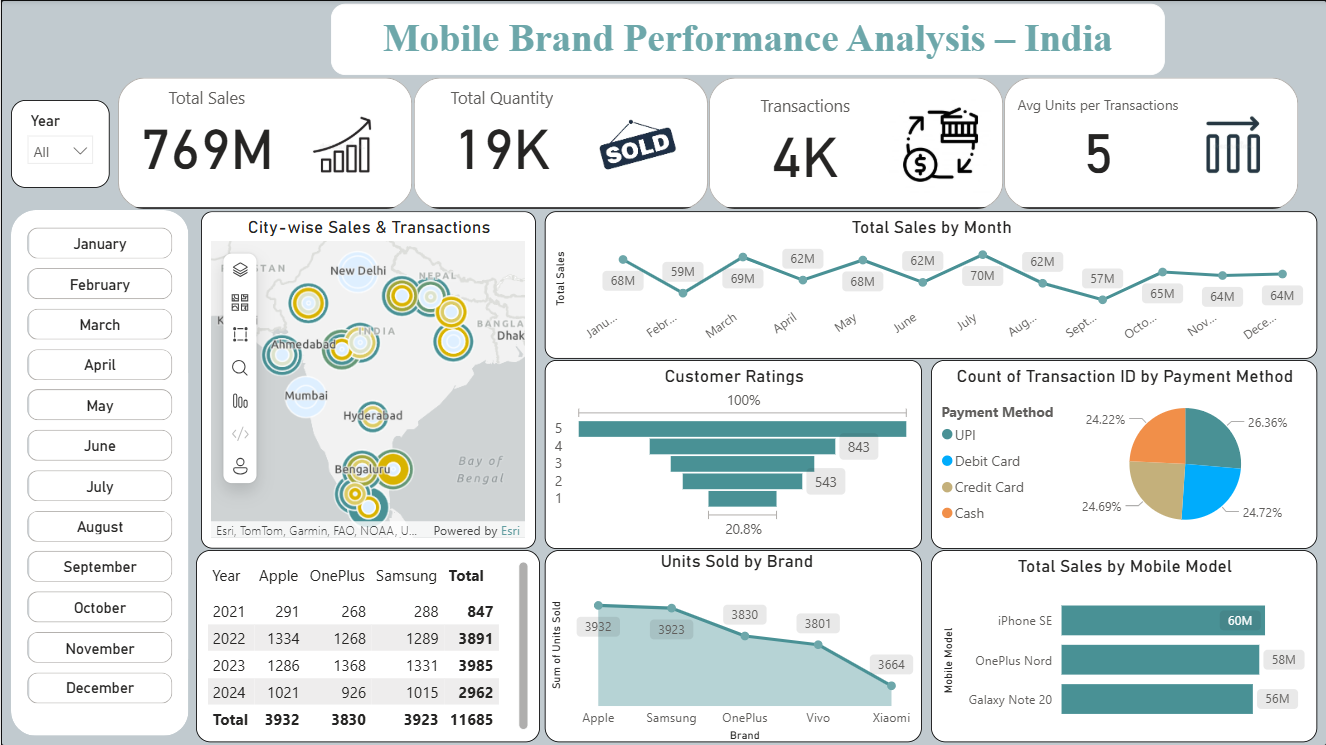

The dashboard page shown, as its layout file describes it:
{"tool":"powerbi","page":{"name":"Page 1","canvas":[1280,720],"ordinal":0},"visuals":[{"type":"shape","box":[10,202.5,171.2,507.5],"z":0},{"type":"advancedSlicerVisual","fields":{"Values":["Mobile Sale.Date.Variation.Date Hierarchy.Month"]},"box":[20,215,150,470],"z":2000},{"type":"cardVisual","title":"Total Tran","fields":{"Data":["Mobile Sale.Total Sales","Mobile Sale.Total Quantity","Mobile Sale.Total Transaction","Mobile Sale.Average"]},"box":[88.7,69.5,1191.3,137.6],"z":3000},{"type":"esriVisual","title":"City-wise Sales & Transactions","fields":{"Location":["Mobile Sale.City"],"Size":["Mobile Sale.Total Sales"],"Color":["Mobile Sale.Units Sold"]},"box":[193,203.9,323.3,325.7],"z":4000},{"type":"lineChart","fields":{"Category":["Mobile Sale.Date.Variation.Date Hierarchy.Month","Mobile Sale.Date.Variation.Date Hierarchy.Day"],"Y":["Mobile Sale.Total Sales"]},"box":[524.8,203.9,745.6,142.4],"z":5000},{"type":"clusteredBarChart","fields":{"Y":["Mobile Sale.Total Sales"],"Category":["Mobile Sale.Mobile Model"]},"box":[897.6,530.8,372.8,185.8],"z":6000},{"type":"pieChart","fields":{"Category":["Mobile Sale.Payment Method"],"Y":["CountNonNull(Mobile Sale.Transaction ID)"]},"box":[897.6,347.5,372.8,182.2],"z":7000},{"type":"funnel","title":"Customer Ratings","fields":{"Y":["CountNonNull(Mobile Sale.Customer Ratings)"],"Category":["Mobile Sale.Customer Ratings"]},"box":[524.8,347.5,364.3,182.2],"z":8000},{"type":"areaChart","title":"Units Sold by Brand","fields":{"Category":["Mobile Sale.Brand"],"Y":["Sum(Mobile Sale.Units Sold)"]},"box":[524.8,530.8,364.3,185.8],"z":9000},{"type":"pivotTable","fields":{"Rows":["Mobile Sale.Date.Variation.Date Hierarchy.Year"],"Columns":["Mobile Sale.Brand"],"Values":["Sum(Mobile Sale.Units Sold)"]},"box":[188.2,530.8,331.8,185.8],"z":10000},{"type":"slicer","fields":{"Values":["Mobile Sale.Date.Variation.Date Hierarchy.Year"]},"box":[10,96.2,95,85],"z":11000},{"type":"textbox","box":[318.5,3.6,804.7,68.8],"z":12000}]}

Visuals, with their boxes in screenshot pixels (x1, y1, x2, y2), scaled from the page's 1280x720 canvas onto the 1326x745 screenshot:
shape: crop(10, 210, 188, 735)
advancedSlicerVisual - Mobile Sale.Date.Variation.Date Hierarchy.Month: crop(21, 222, 176, 709)
"Total Tran" cardVisual: crop(92, 72, 1325, 214)
"City-wise Sales & Transactions" esriVisual: crop(200, 211, 535, 548)
lineChart - Mobile Sale.Date.Variation.Date Hierarchy.Month x Mobile Sale.Date.Variation.Date Hierarchy.Day: crop(544, 211, 1316, 358)
clusteredBarChart - Mobile Sale.Total Sales x Mobile Sale.Mobile Model: crop(930, 549, 1316, 741)
pieChart - Mobile Sale.Payment Method x CountNonNull(Mobile Sale.Transaction ID): crop(930, 360, 1316, 548)
"Customer Ratings" funnel: crop(544, 360, 921, 548)
"Units Sold by Brand" areaChart: crop(544, 549, 921, 741)
pivotTable - Mobile Sale.Date.Variation.Date Hierarchy.Year x Mobile Sale.Brand: crop(195, 549, 539, 741)
slicer - Mobile Sale.Date.Variation.Date Hierarchy.Year: crop(10, 100, 109, 187)
textbox: crop(330, 4, 1164, 75)
